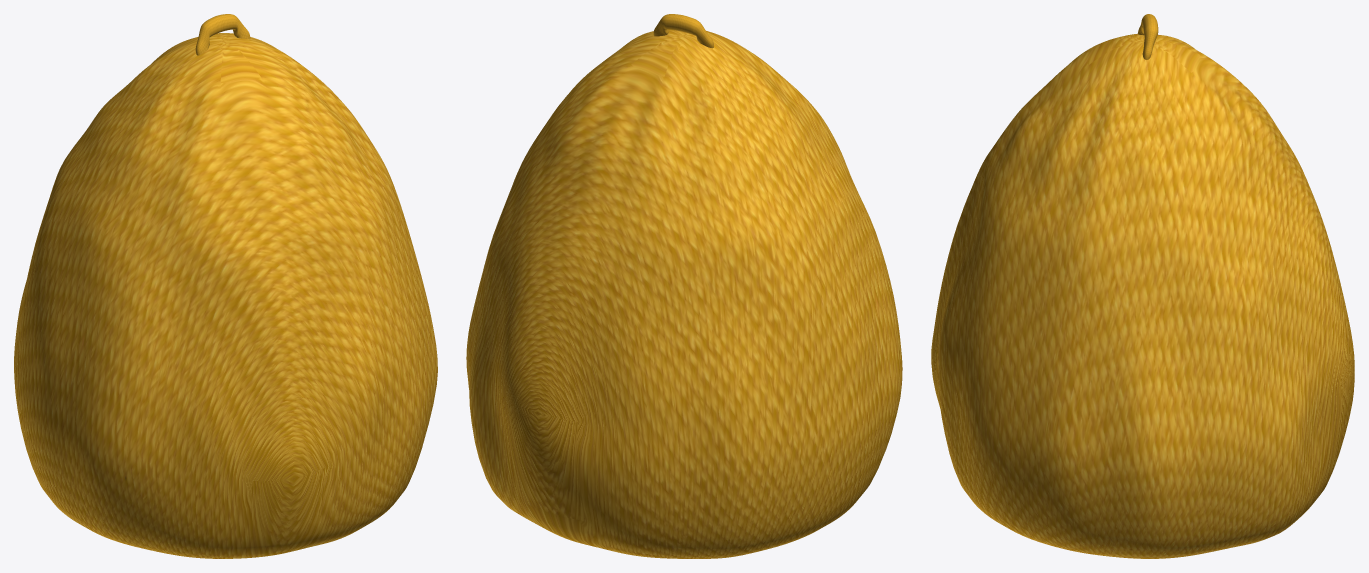
The model's file is zacatlán.gltf.
3 renders of one model, left to right at view 1: azimuth 30°, elevation 25°; view 2: azimuth 150°, elevation 25°; view 3: azimuth 270°, elevation 25°, orthographic.
Parts seen in each view (by area): view 1: Cylinder.003; view 2: Cylinder.003; view 3: Cylinder.003.
Part boxes in pixels (x1=…): Cylinder.003: x1=14, y1=14, x2=437, y2=558; Cylinder.003: x1=466, y1=14, x2=902, y2=558; Cylinder.003: x1=931, y1=14, x2=1354, y2=558.
Size of the model in its own units: 4.07 by 5.07 by 4.03.
Materials: 1 (1 with a texture image).
